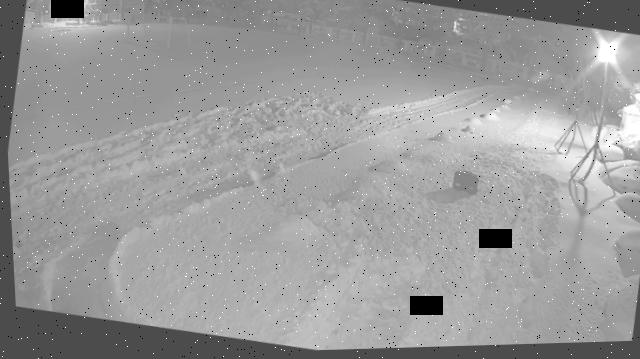bag: (450, 171, 479, 198)
